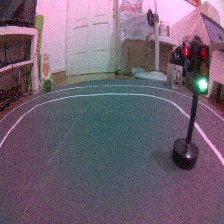green: (171, 34, 209, 173)
